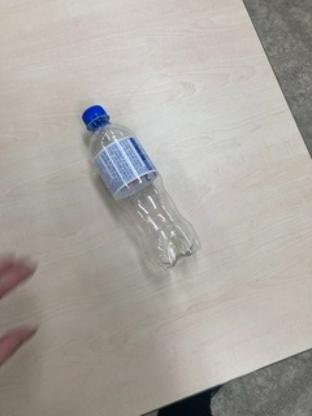Plastic Bottle: (81, 100, 199, 280)
